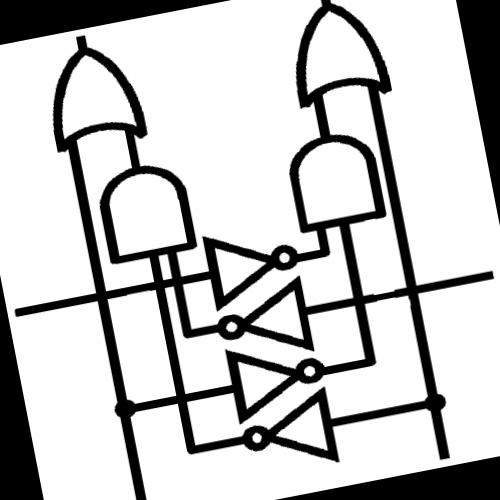and: (88, 152, 203, 268), (279, 123, 392, 239)
not: (206, 268, 321, 372), (230, 384, 348, 484), (220, 326, 334, 428), (200, 215, 310, 314)
or: (33, 32, 156, 160), (274, 0, 400, 114)
